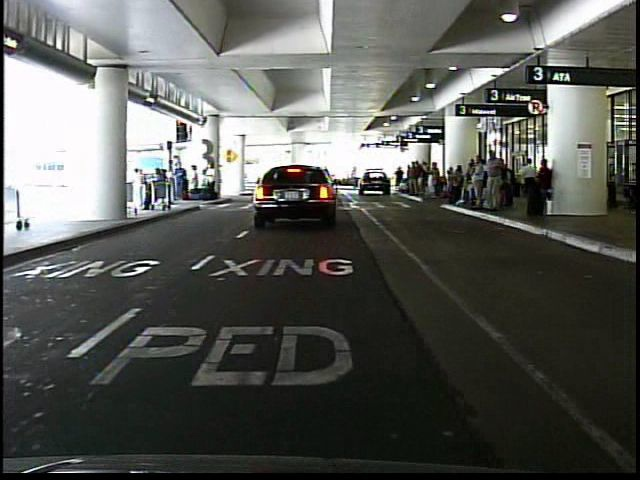person: (480, 145, 507, 217), (130, 164, 150, 219), (469, 150, 487, 209), (518, 154, 539, 202), (175, 155, 190, 203), (204, 159, 219, 199), (190, 162, 203, 202)
